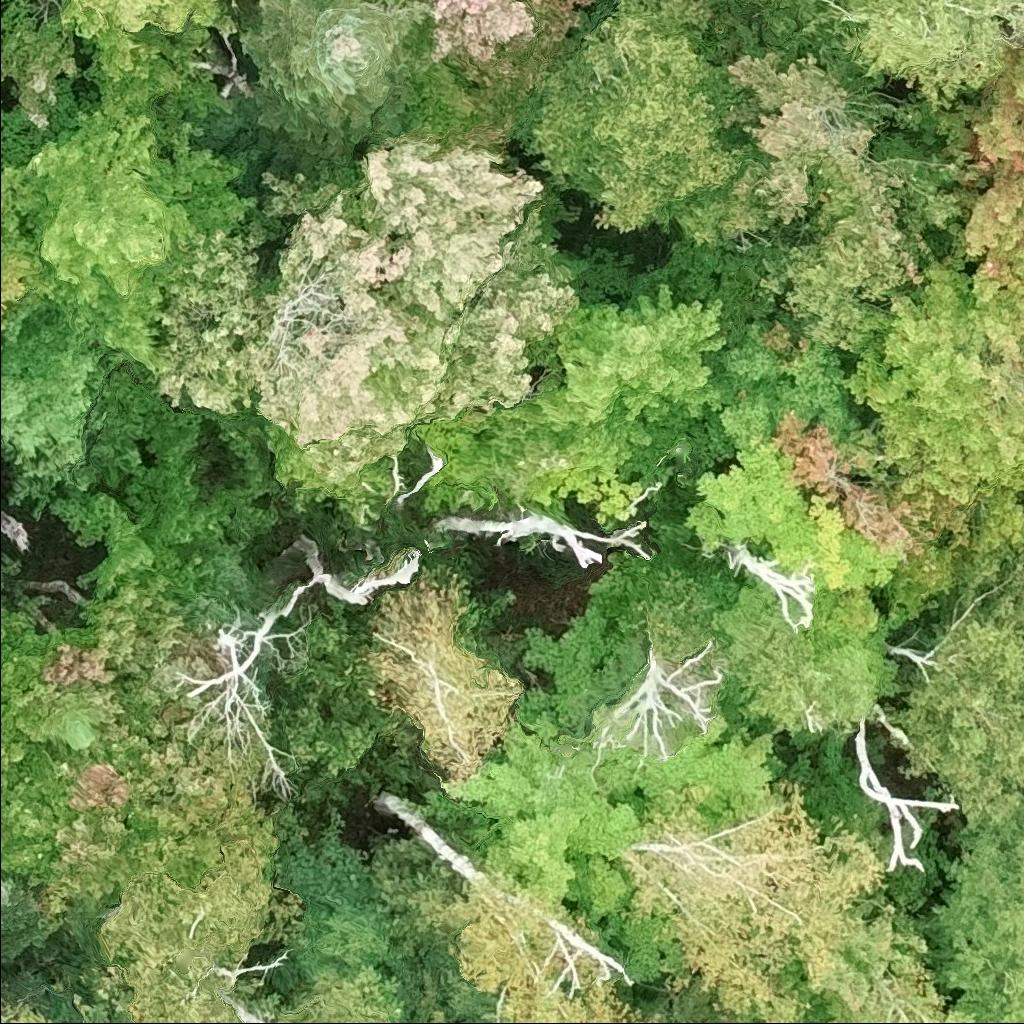crown: (154, 131, 584, 498), (719, 41, 985, 351), (0, 93, 263, 379), (409, 279, 732, 501), (523, 0, 808, 247), (620, 774, 887, 1023), (0, 696, 259, 929), (408, 716, 655, 921), (99, 804, 310, 1023), (766, 412, 1023, 588), (843, 259, 1023, 506), (886, 551, 1023, 825), (682, 431, 902, 593), (438, 873, 670, 1023), (0, 568, 186, 747), (362, 564, 518, 777), (237, 0, 433, 166), (758, 0, 1023, 111), (402, 0, 600, 146), (585, 704, 791, 831), (239, 534, 422, 675), (169, 599, 297, 799), (0, 271, 122, 467), (923, 798, 1023, 1023), (775, 883, 934, 1023), (948, 35, 1023, 293), (852, 714, 958, 874), (604, 630, 723, 758), (437, 502, 650, 572), (721, 545, 816, 633), (858, 962, 985, 1023), (56, 0, 239, 39), (279, 975, 396, 1023), (38, 684, 109, 756), (0, 874, 50, 965), (669, 978, 748, 1023), (0, 1004, 55, 1023), (396, 1005, 451, 1023), (0, 746, 27, 777), (0, 790, 0, 796)
